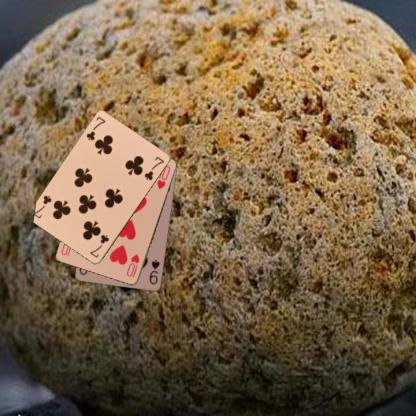10h: (124, 252, 141, 280)
7c: (84, 114, 107, 142), (87, 232, 110, 259)
9s: (147, 257, 161, 286)
